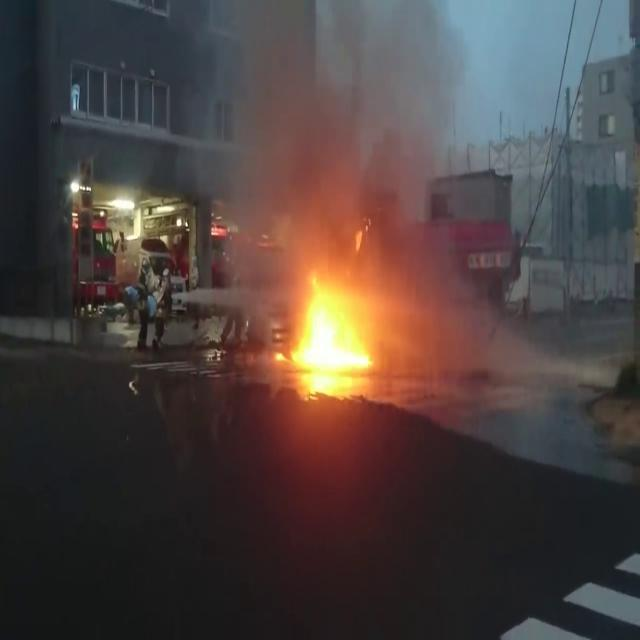Fire: (296, 296, 376, 370), (273, 349, 289, 363)
